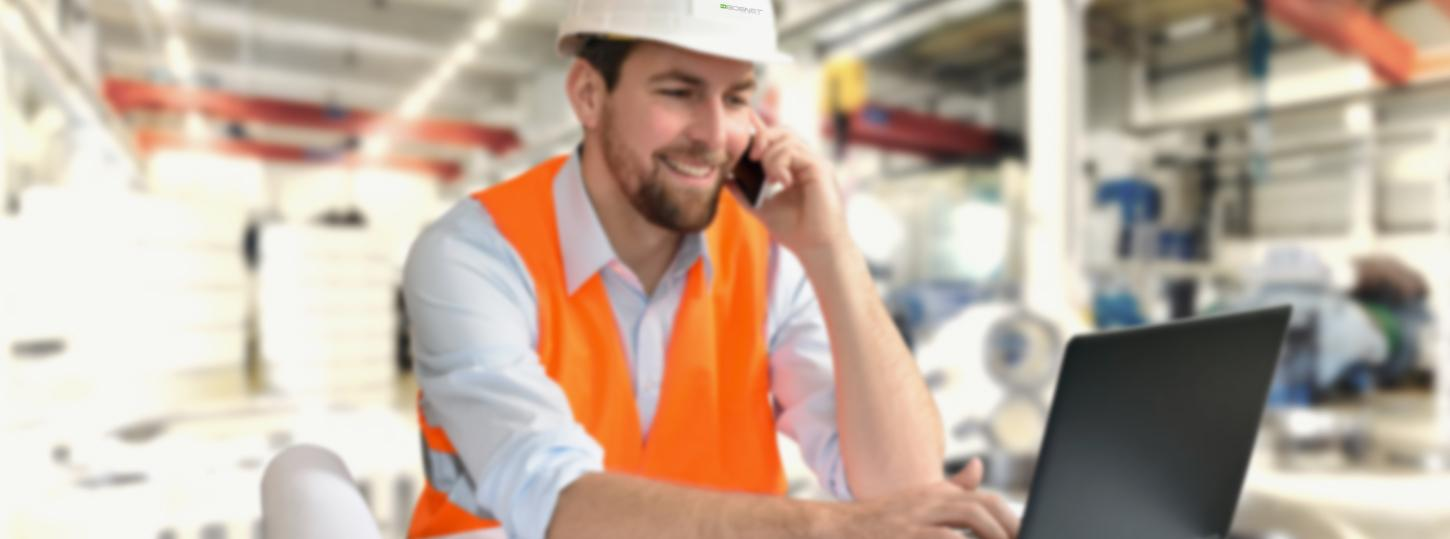helmet: (541, 1, 796, 72)
